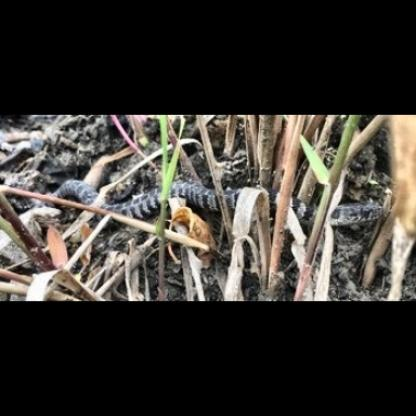Snake: (56, 170, 384, 232)
